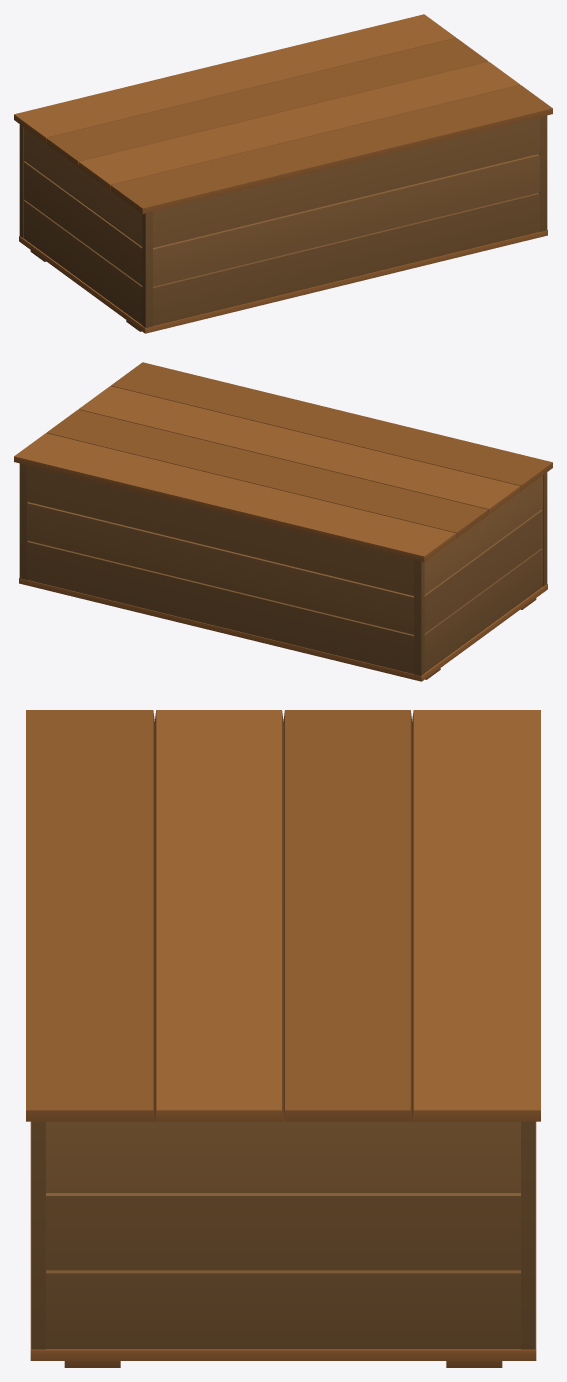
Rendered from Prop_Crate_Box_02.obj.
The picture shows the model from 3 angles, top to bottom: view 1: azimuth 30°, elevation 25°; view 2: azimuth 150°, elevation 25°; view 3: azimuth 270°, elevation 25°; orthographic projection. The views are drawn at different scales.
Visible parts, largest first — view 1: Prop_Crate_Box_02; view 2: Prop_Crate_Box_02; view 3: Prop_Crate_Box_02.
Boxes of the visible parts, x1=… form: Prop_Crate_Box_02: x1=14, y1=14, x2=552, y2=333; Prop_Crate_Box_02: x1=14, y1=362, x2=552, y2=681; Prop_Crate_Box_02: x1=26, y1=710, x2=540, y2=1367.
Bounding box in the file's own units: 1.7 × 0.5227 × 0.9219.
Materials: 1 (1 with a texture image).
